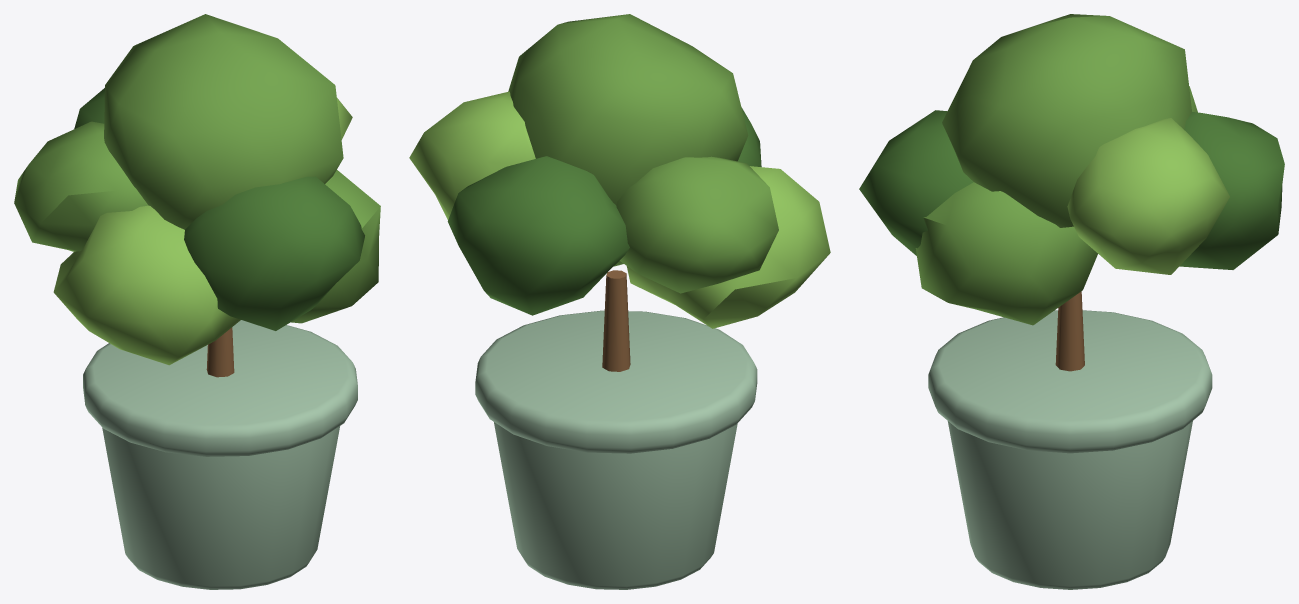
File: plant_medium.glb
3 renders of one model, left to right at view 1: azimuth 30°, elevation 25°; view 2: azimuth 150°, elevation 25°; view 3: azimuth 270°, elevation 25°, orthographic. The views are drawn at different scales.
Parts seen in each view (by area): view 1: plant_medium; view 2: plant_medium; view 3: plant_medium.
Boxes of the visible parts, box(x1,y1,x2,y2) form: plant_medium: box(14, 14, 380, 589); plant_medium: box(409, 14, 830, 589); plant_medium: box(859, 14, 1284, 589).
Size of the model in its own units: 0.7027 by 1.07 by 0.7767.
1 material, 1 textured.
